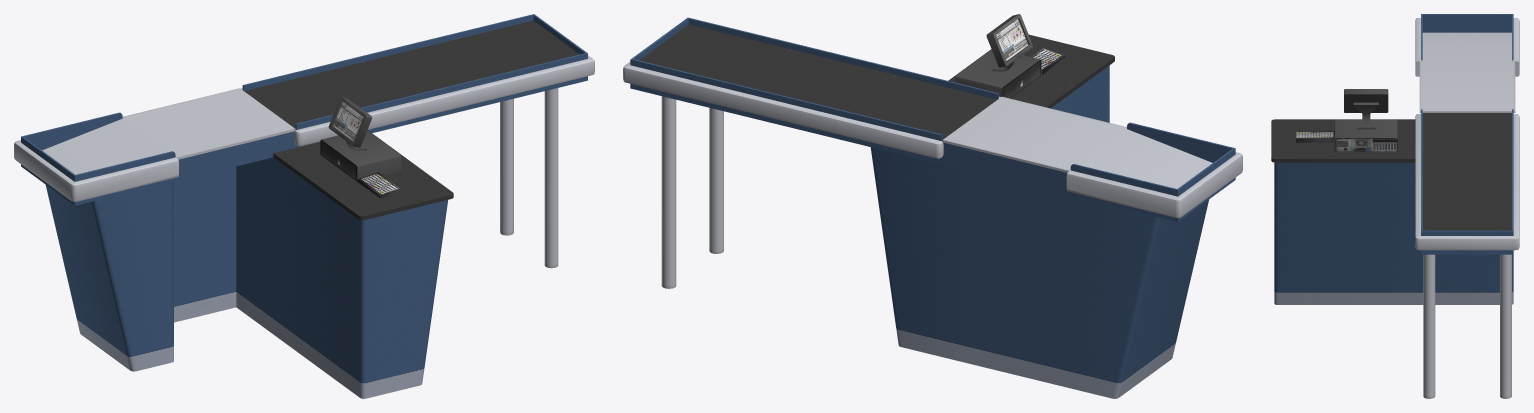
File: sp_cash_box.FBX
The picture shows the model from 3 angles, left to right: view 1: azimuth 30°, elevation 25°; view 2: azimuth 150°, elevation 25°; view 3: azimuth 270°, elevation 25°; orthographic projection. The views are drawn at different scales.
Parts seen in each view (by area): view 1: sp_cash_box; view 2: sp_cash_box; view 3: sp_cash_box.
Part boxes in pixels (<box>): sp_cash_box: <box>14,14,594,398</box>; sp_cash_box: <box>623,14,1242,398</box>; sp_cash_box: <box>1271,14,1519,398</box>.
Bounding box in the file's own units: 90.55 × 43.31 × 40.29.
